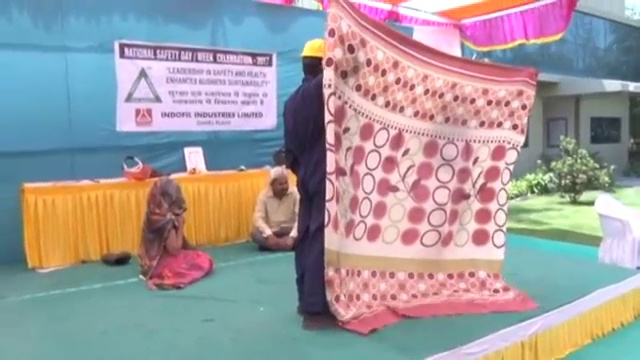helmet: (300, 37, 328, 58)
helmet_off: (151, 176, 182, 207), (269, 167, 289, 200)
helmet_on: (299, 38, 327, 75)
person: (284, 36, 340, 332), (137, 174, 208, 293), (249, 163, 299, 254)
